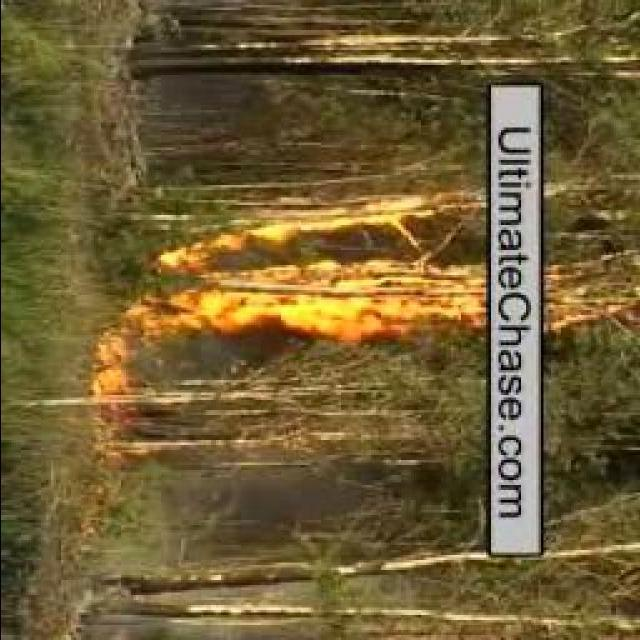Fire: (140, 196, 480, 352), (546, 272, 640, 344), (85, 310, 124, 404)
